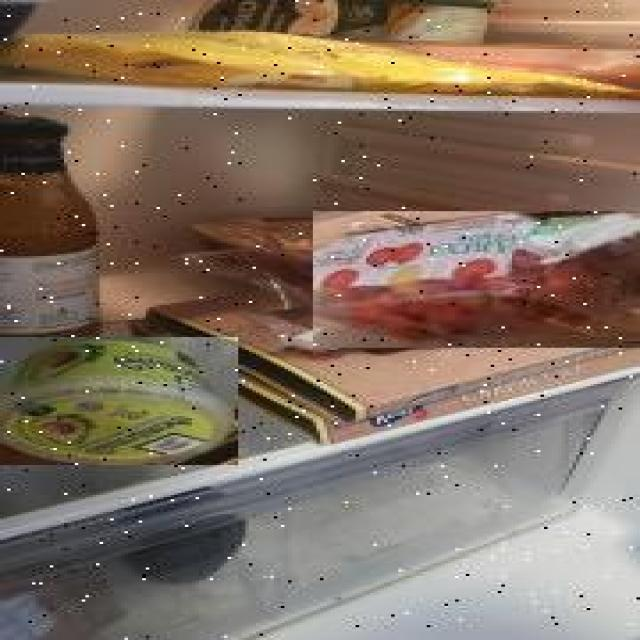guacamole: (0, 337, 238, 465)
tomato: (313, 212, 640, 349)
